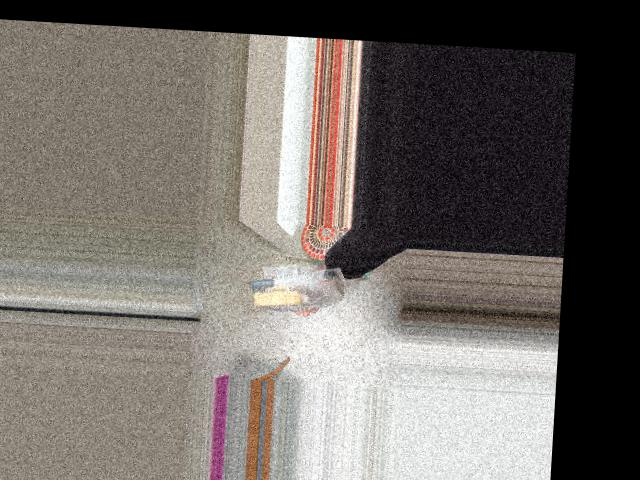cheese: (249, 259, 350, 316)
